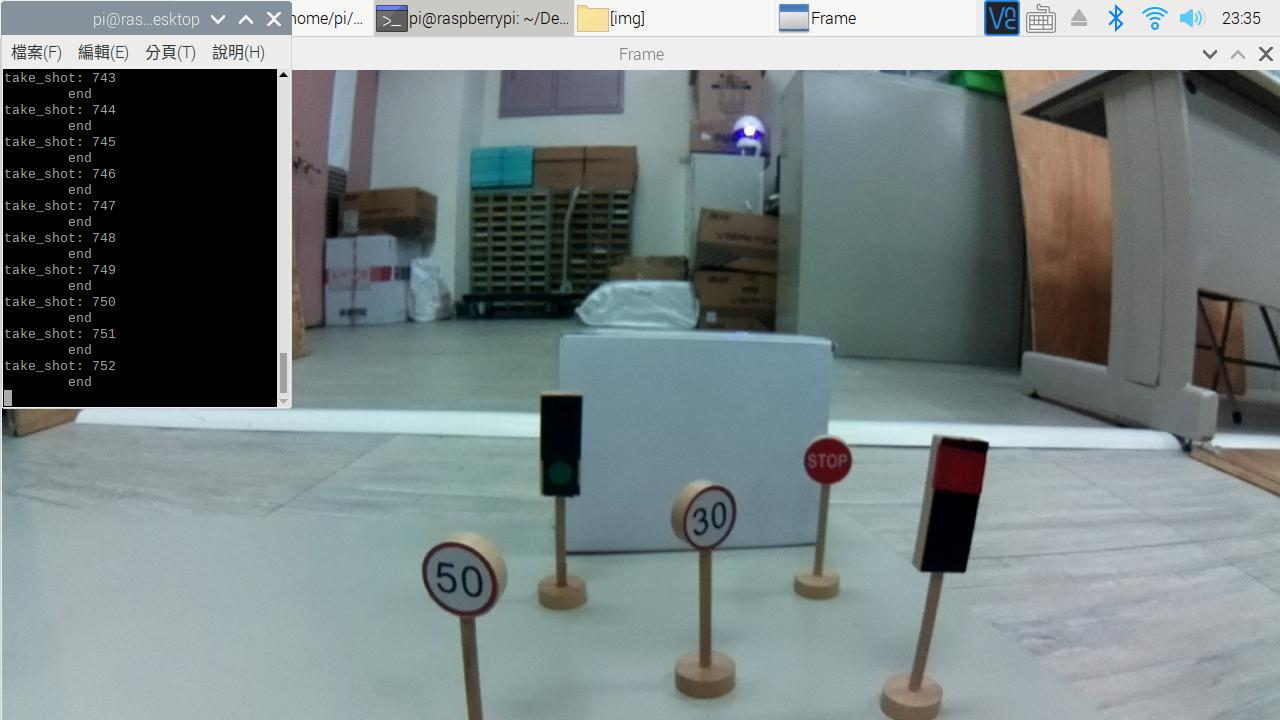Green: (533, 386, 603, 512)
Red: (903, 429, 998, 591)
Speed30: (666, 472, 755, 561)
Speed50: (407, 529, 516, 633)
Stop: (795, 420, 873, 501)
